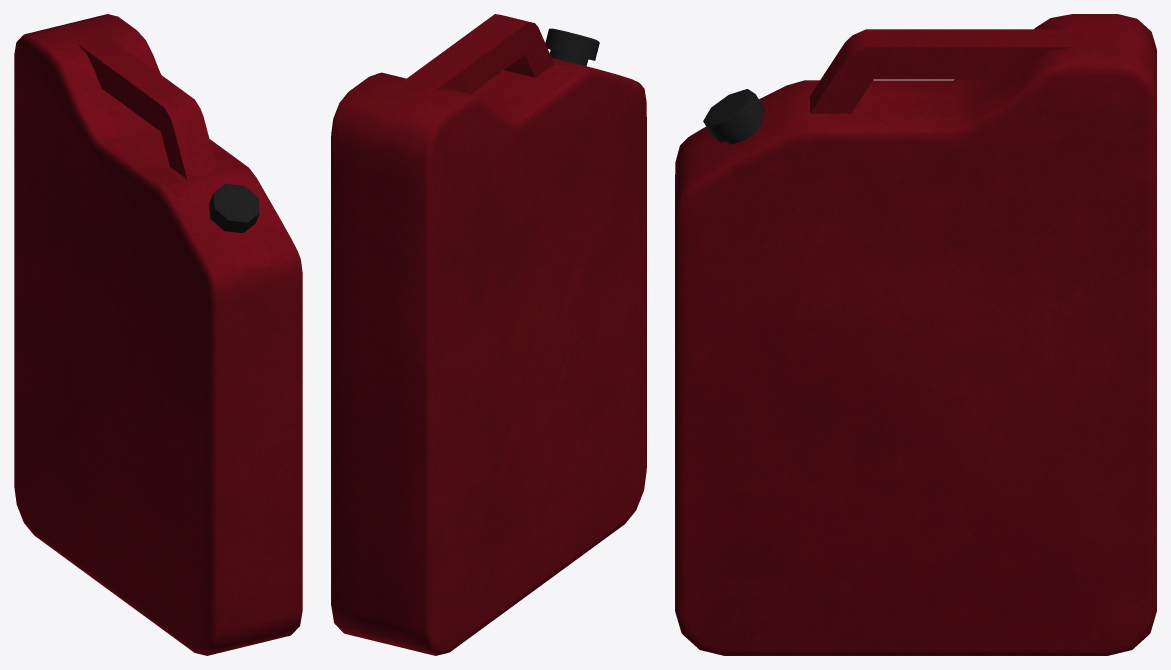
File: jerrycan.obj
3 views of the same model, side by side, from view 1: azimuth 30°, elevation 25°; view 2: azimuth 150°, elevation 25°; view 3: azimuth 270°, elevation 25° (orthographic). The views are drawn at different scales.
Parts seen in each view (by area): view 1: jerrycan; view 2: jerrycan; view 3: jerrycan.
Boxes of the visible parts, bbox=[...] form: jerrycan: bbox=[14, 14, 302, 655]; jerrycan: bbox=[331, 14, 646, 655]; jerrycan: bbox=[675, 14, 1156, 655].
Bounding box in the file's own units: 0.0695 × 0.3549 × 0.2613.
1 material, 1 textured.
